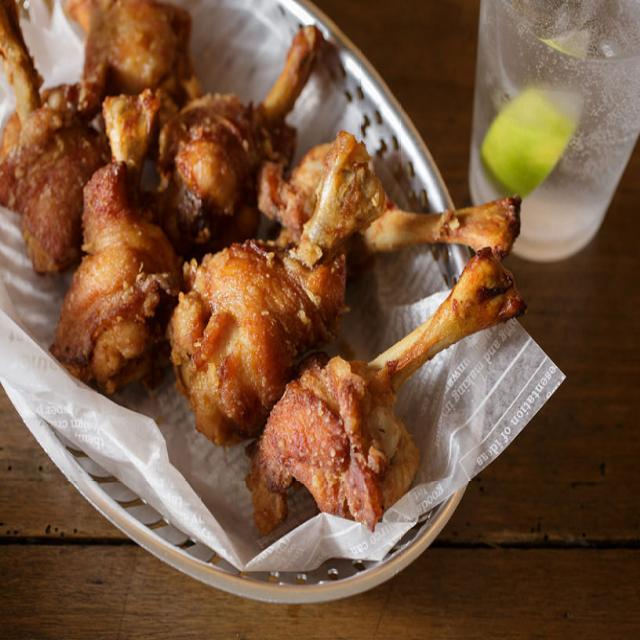Frango: (0, 0, 528, 534)
